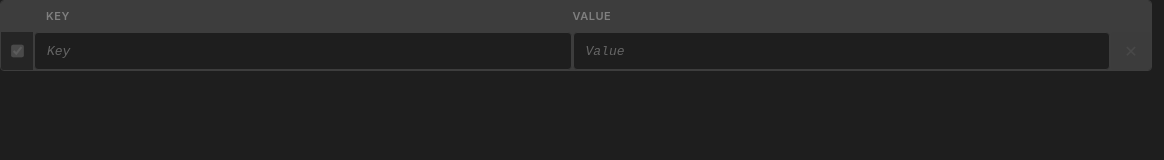
Test case: DictionaryInput › Enable/disable checkboxes › should enable checkbox when row has a key
The image size is (1164, 160).
expect the checkbox is disabled: met, box left=11, top=43, right=24, bottom=59
Type "TestKey" into the field with placeholder "Key" at (303, 51), box left=34, top=32, right=572, bottom=70
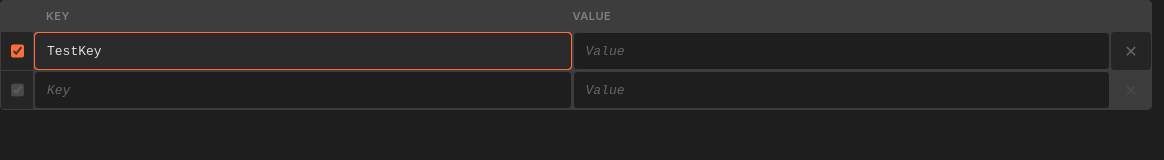
expect the 1st checkbox is enabled: met, box left=11, top=43, right=24, bottom=59
